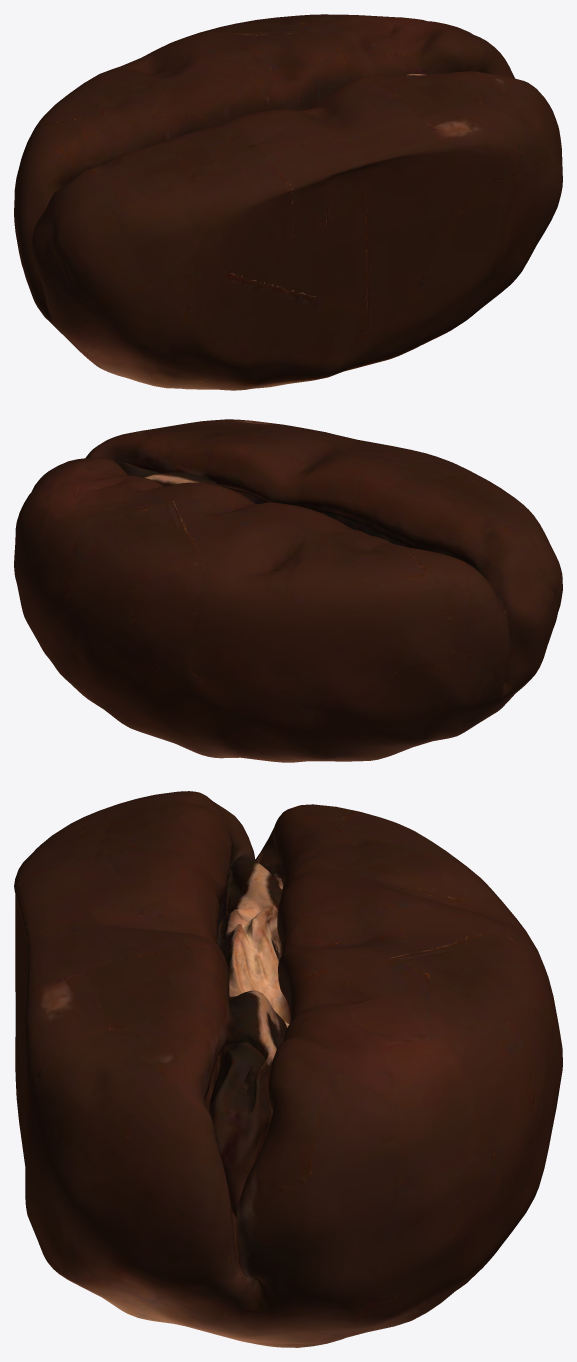
The model's file is bean1.glb.
3 views of the same model, one above another, from view 1: azimuth 30°, elevation 25°; view 2: azimuth 150°, elevation 25°; view 3: azimuth 270°, elevation 25° (orthographic). The views are drawn at different scales.
Size of the model in its own units: 1.9 by 0.9849 by 1.29.
1 material, 1 textured.
